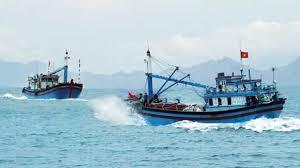Ship: (130, 49, 288, 126), (23, 50, 84, 99)
